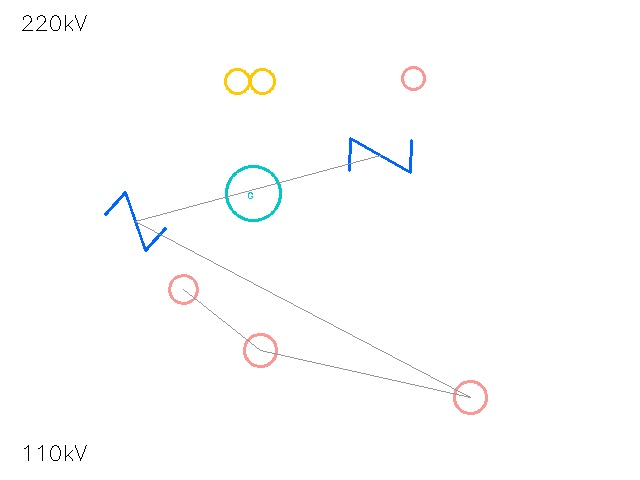circuit_breaker: (346, 121, 414, 189), (105, 191, 165, 251)
current_transformer: (391, 56, 435, 100)
feeder_terminal: (227, 317, 293, 383)
fuse: (438, 365, 502, 429)
generator: (226, 166, 280, 220)
transformer_2w: (219, 50, 281, 112)
voltage_transformer: (155, 261, 211, 317)
